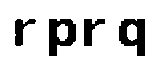p: (46, 16, 77, 58)
q: (114, 12, 147, 60)
r: (81, 15, 106, 51), (10, 16, 37, 48)
